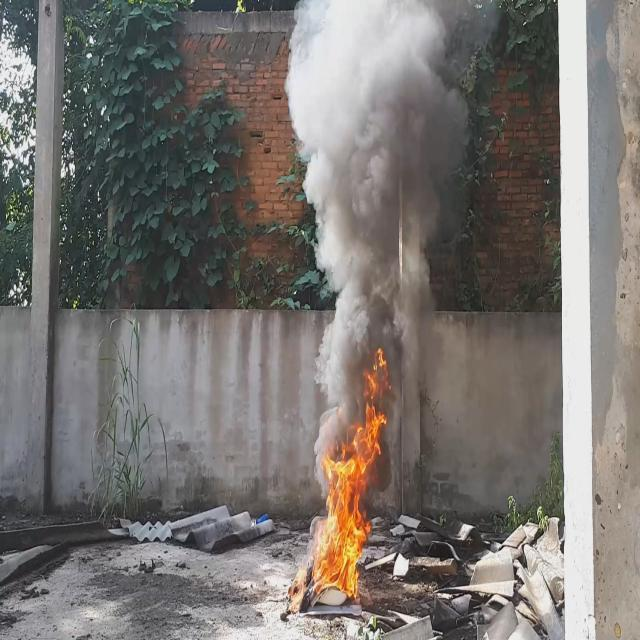Fire: (309, 348, 392, 606)
Smoke: (280, 0, 469, 492)
